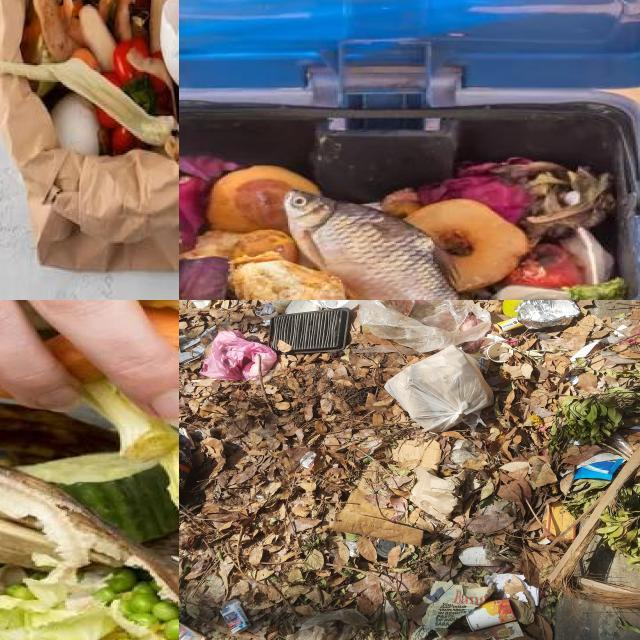Garbage: (179, 112, 629, 300), (0, 422, 179, 640), (0, 0, 179, 162)
